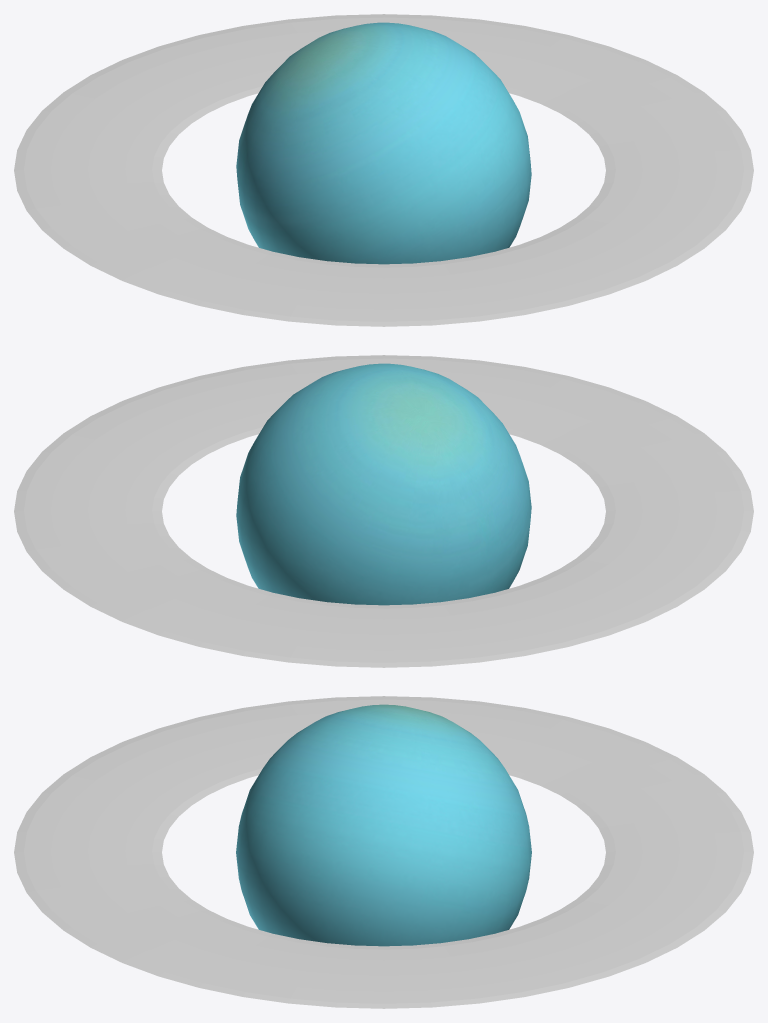
The model's file is uranus.glb.
3 renders of one model, top to bottom at view 1: azimuth 30°, elevation 25°; view 2: azimuth 150°, elevation 25°; view 3: azimuth 270°, elevation 25°, orthographic.
Parts seen in each view (by area): view 1: Torus, 球; view 2: Torus, 球; view 3: Torus, 球.
Part boxes in pixels (x1,y1,x2,y2): Torus: [14, 14, 753, 326]; 球: [236, 22, 531, 264]; Torus: [14, 355, 753, 667]; 球: [236, 363, 531, 605]; Torus: [14, 696, 753, 1008]; 球: [236, 704, 531, 946].
Size of the model in its own units: 5 by 2 by 5.
2 materials, 1 textured.
